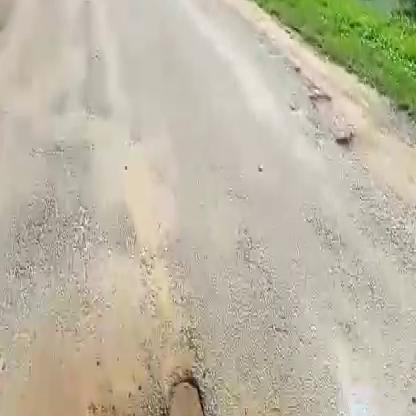pothole: (58, 373, 416, 416)
